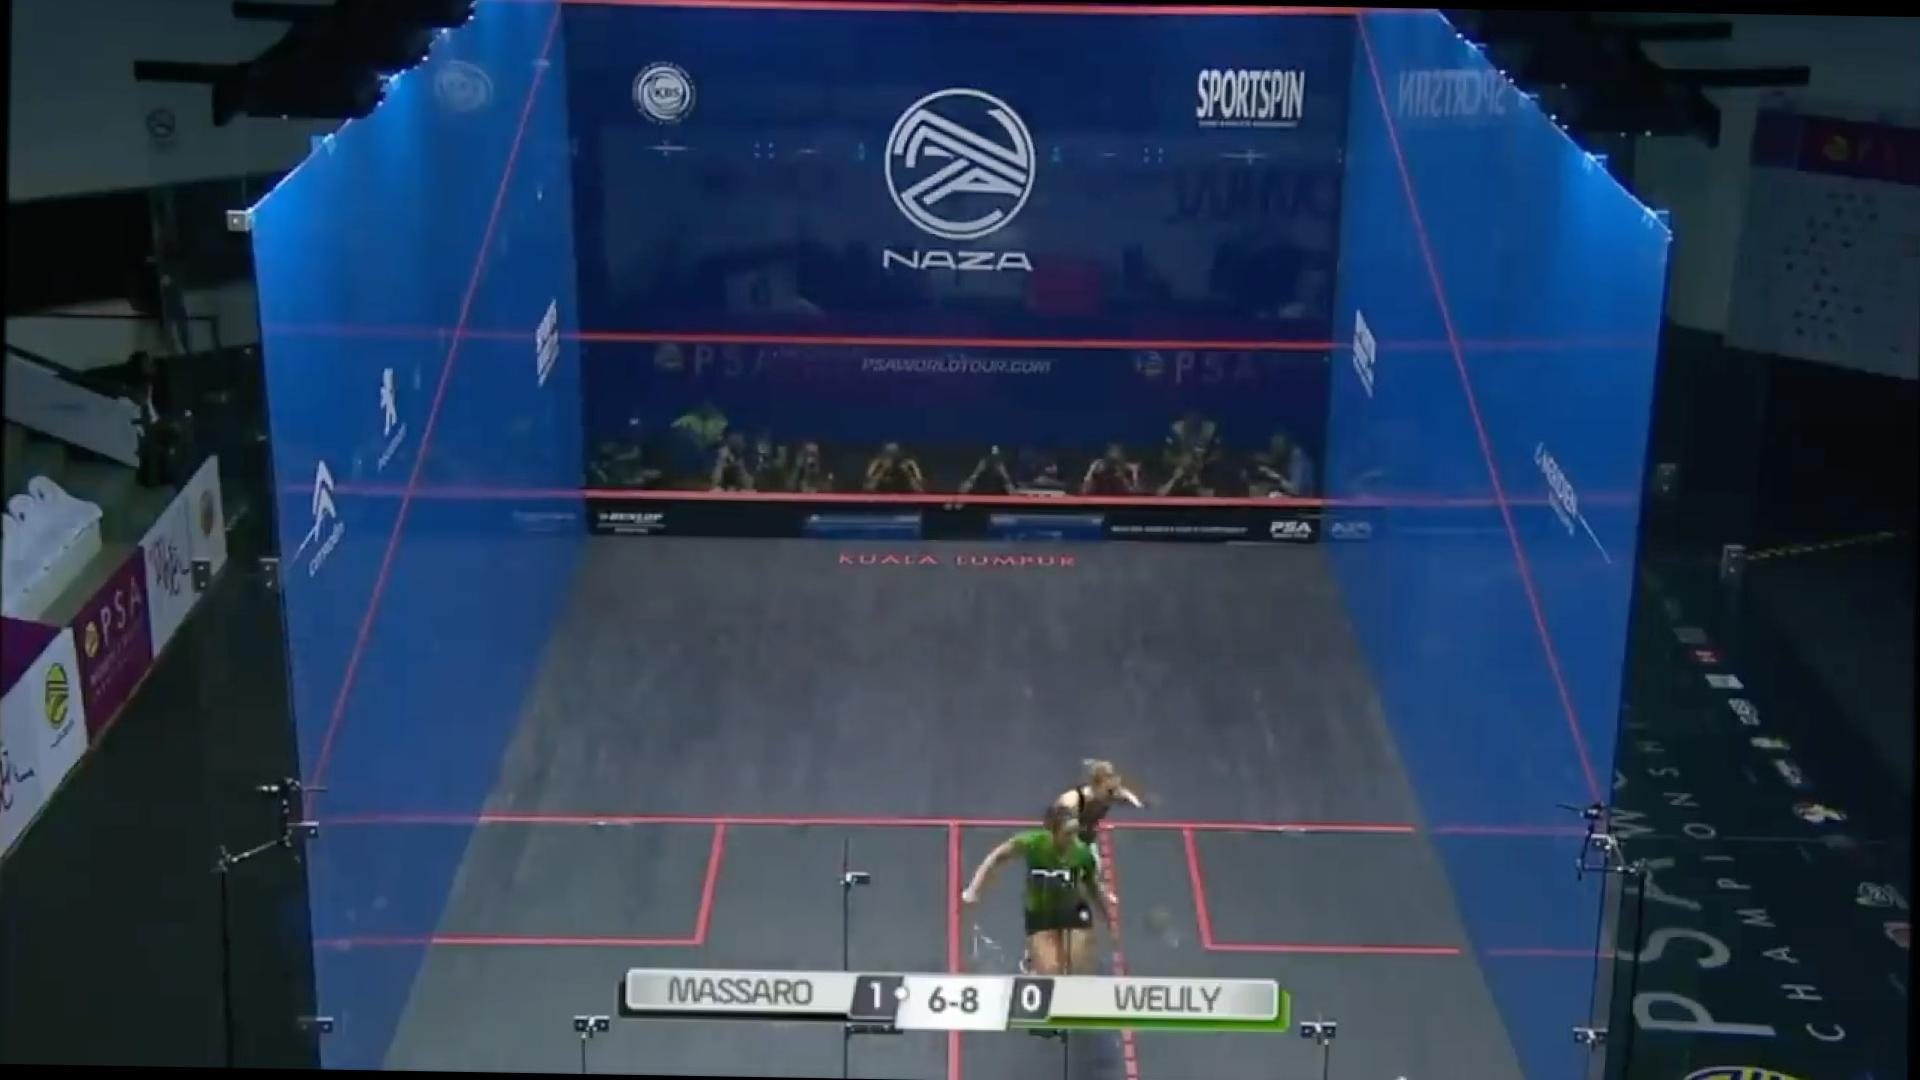Squash-Ball: (1373, 1044, 1436, 1080)
